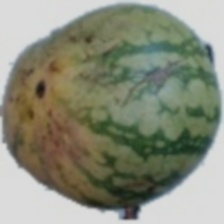watermelon: (10, 35, 187, 196)
